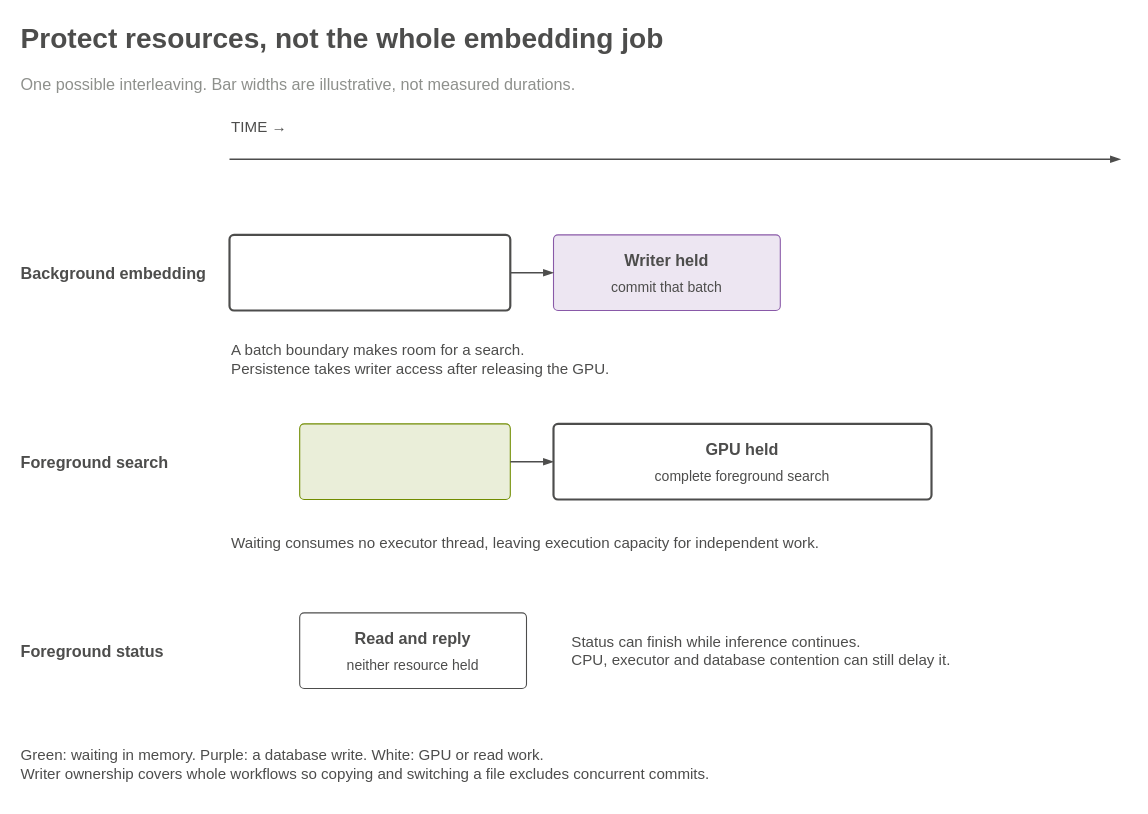
This 1148x814 diagram has some shape labels left out. The shapes that lost their labels are listed below. From the top down, each one's box as (x1, y1, x2, y2) in pixels, then its label:
(228, 233, 511, 311): GPU held infer one batch
(299, 423, 510, 500): Wait for GPU request retained in memory
